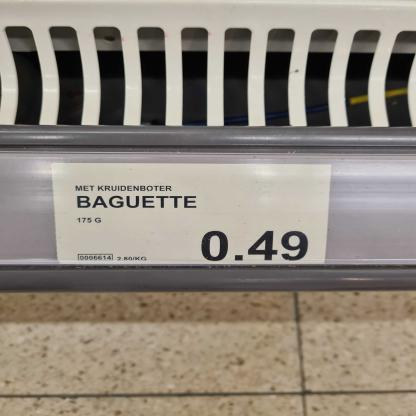prtg: (52, 164, 332, 265)
